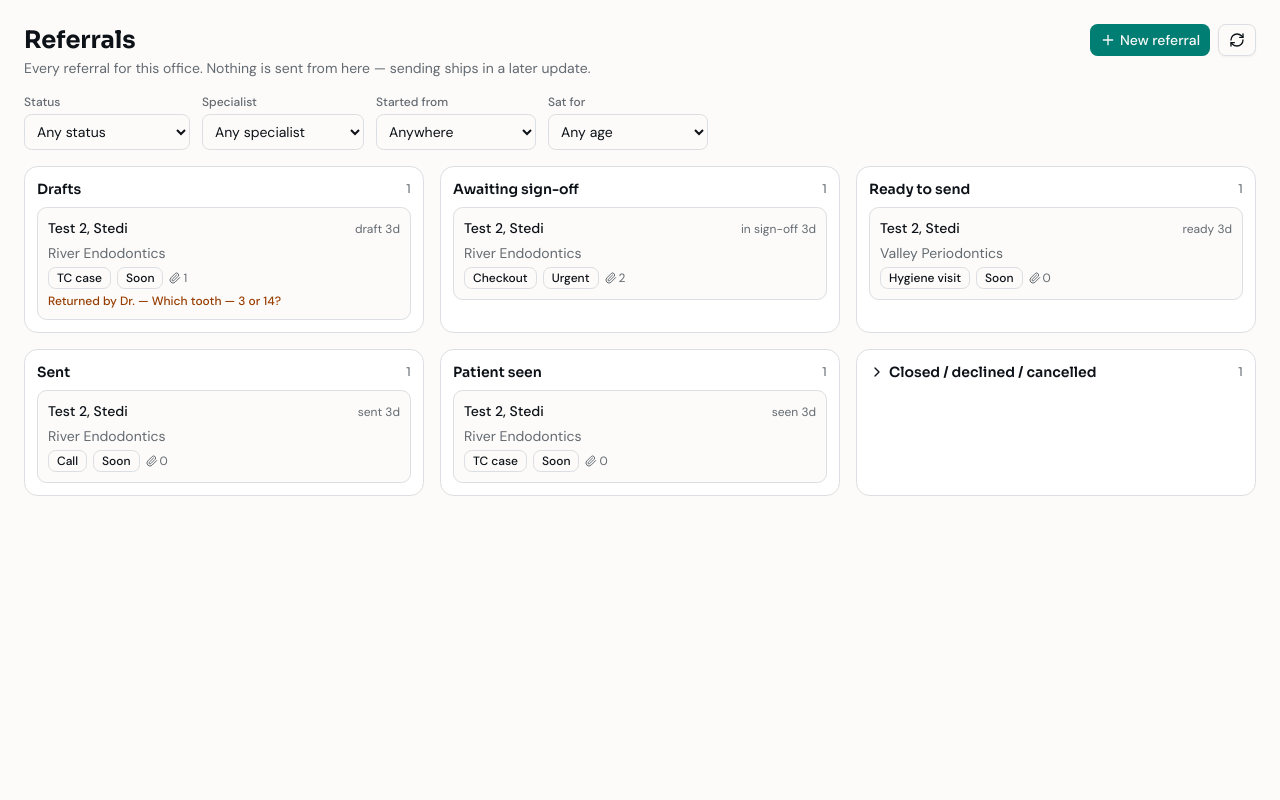
the detail panel › the mark records the server's answer and moves on to the next one
Step 1. Click the 3rd button with test id "tc-hub-card" → coordinates (920, 228), box top-left (869, 207), bottom-right (1243, 300)
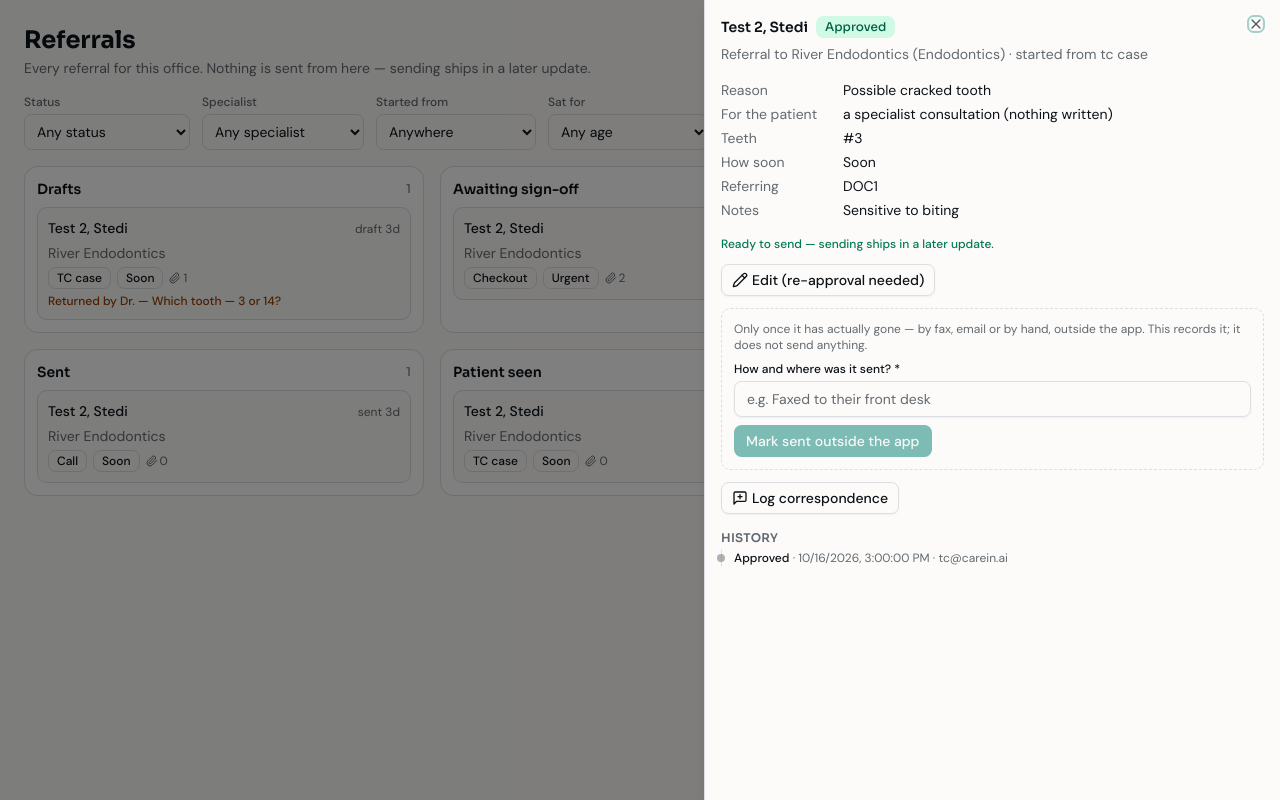
Check: the list with test id "referral-timeline" is shown, box top-left (721, 550), bottom-right (1264, 566)
Step 2. Type "Emailed" into the field labelled "How and where was it sent? *" → coordinates (992, 399), box top-left (734, 381), bottom-right (1251, 417)
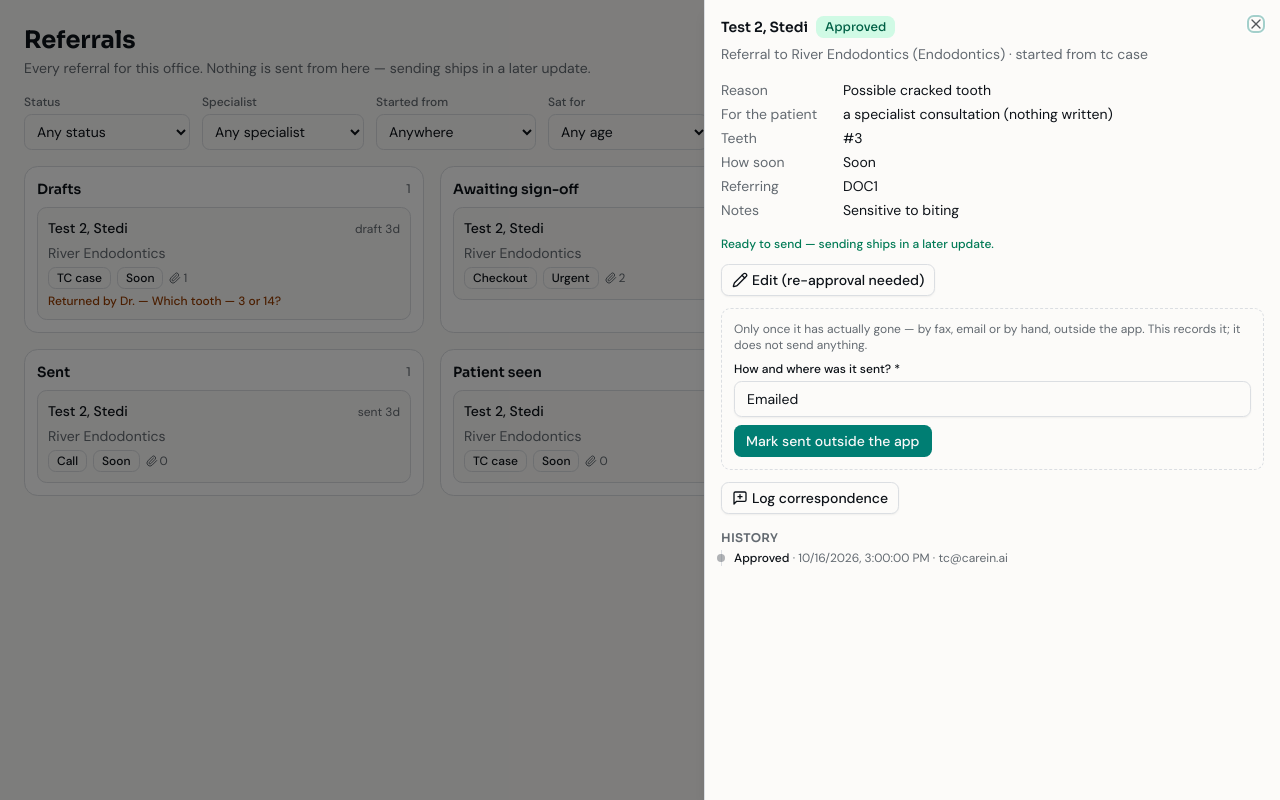
Step 3. Click the button "Mark sent outside the app" → coordinates (833, 441), box top-left (734, 425), bottom-right (932, 457)
(page scrolled)
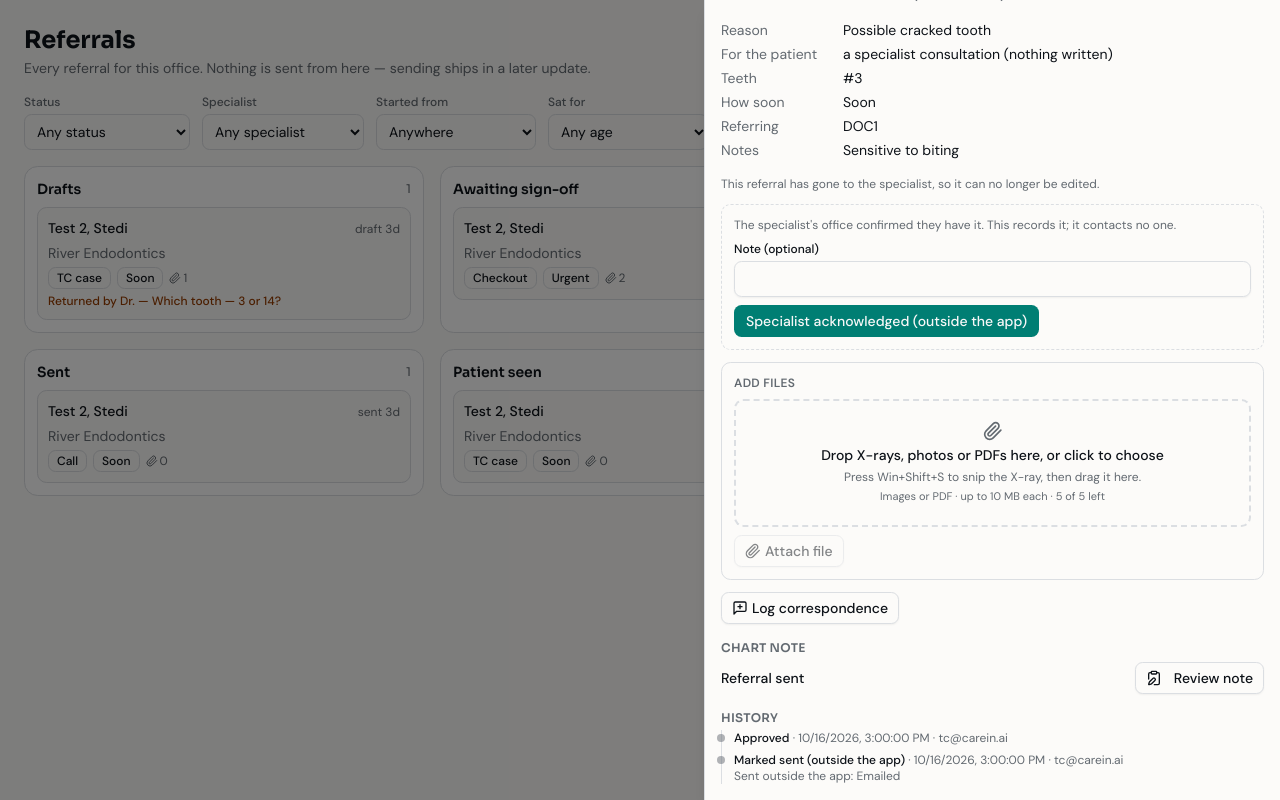
Check: the button "Specialist acknowledged (outside the app)" is shown, box top-left (734, 305), bottom-right (1039, 337)
Check: the list with test id "referral-timeline" shows "Sent outside the app: Emailed", box top-left (734, 768), bottom-right (900, 784)
